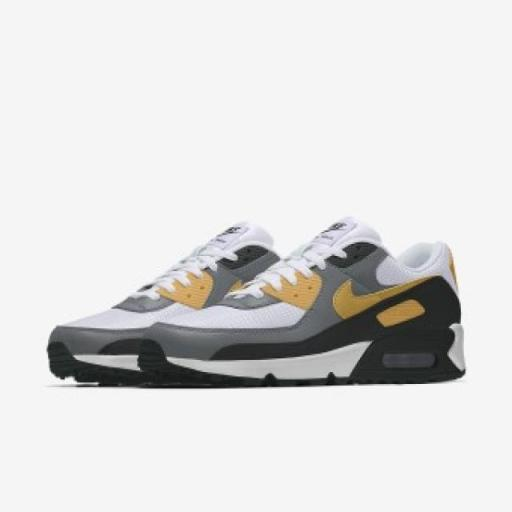Nike: (322, 277, 444, 318)
